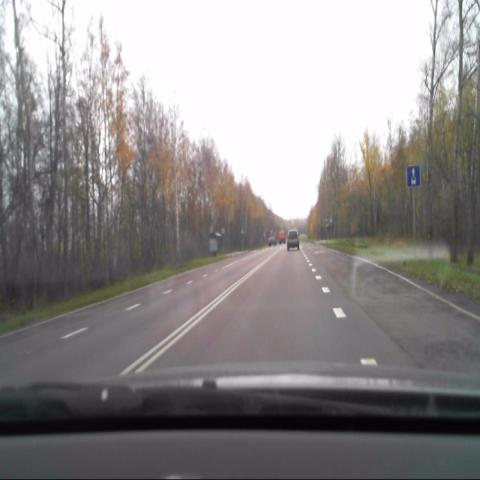5_14: (406, 164, 420, 188)
